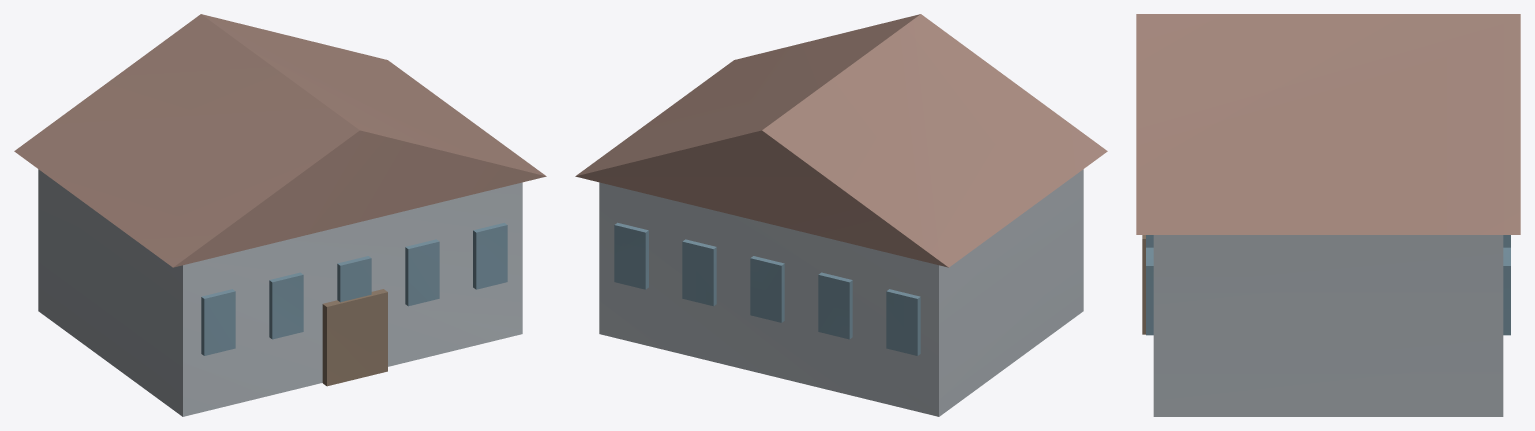
File: market-03.glb
The picture shows the model from 3 angles, left to right: view 1: azimuth 30°, elevation 25°; view 2: azimuth 150°, elevation 25°; view 3: azimuth 270°, elevation 25°; orthographic projection. The views are drawn at different scales.
Parts seen in each view (by area): view 1: world; view 2: world; view 3: world.
Boxes of the visible parts, x1=… form: world: x1=14, y1=14, x2=546, y2=416; world: x1=575, y1=14, x2=1107, y2=416; world: x1=1136, y1=14, x2=1520, y2=416.
Size of the model in its own units: 1.73 by 1.11 by 1.27.
